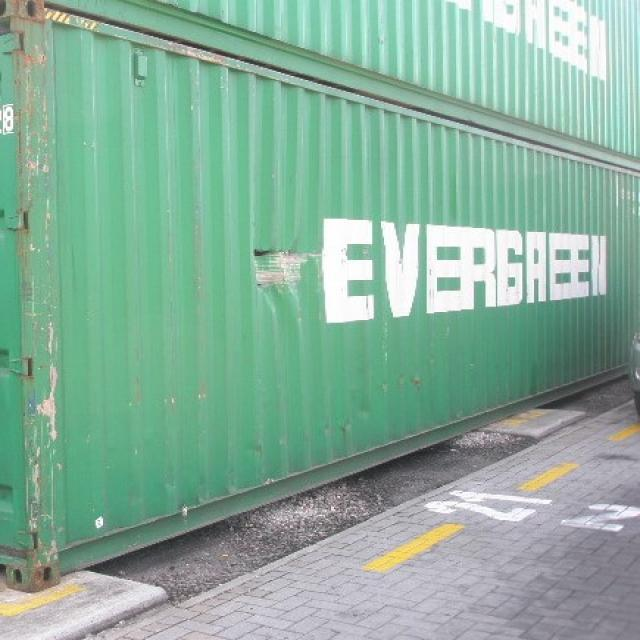dent: (244, 233, 329, 310)
